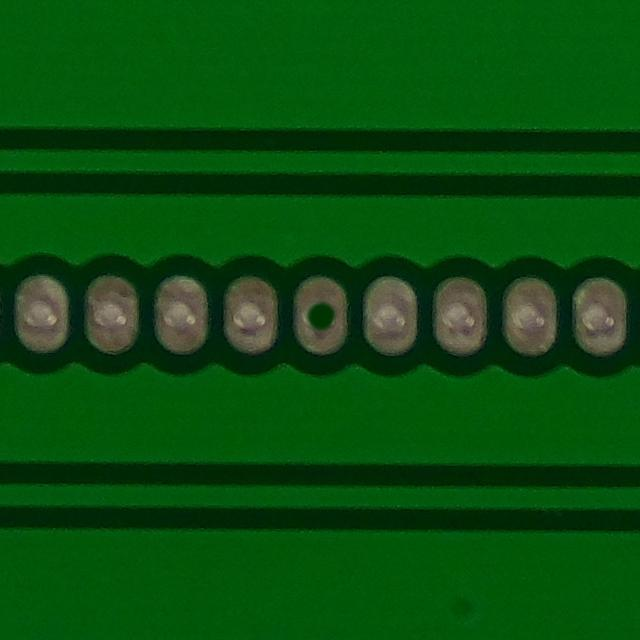missing_hole: (286, 269, 355, 371)
